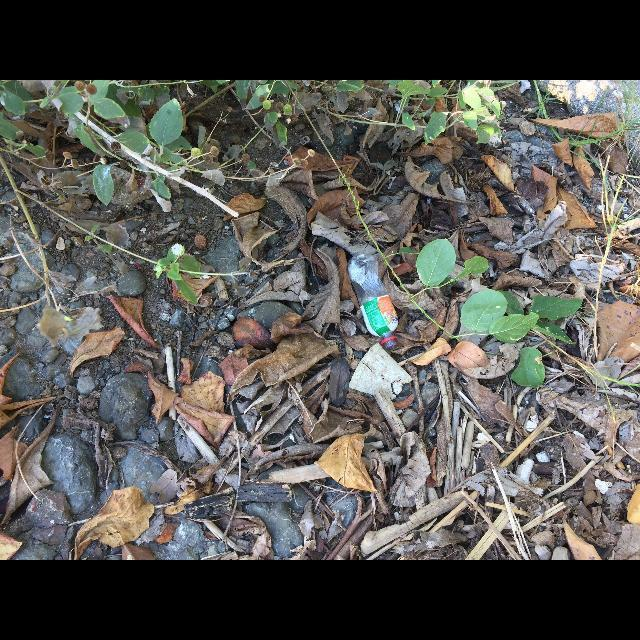Plastic: (348, 253, 398, 349), (349, 342, 413, 400), (596, 480, 612, 494), (536, 451, 550, 462), (574, 430, 584, 438)
